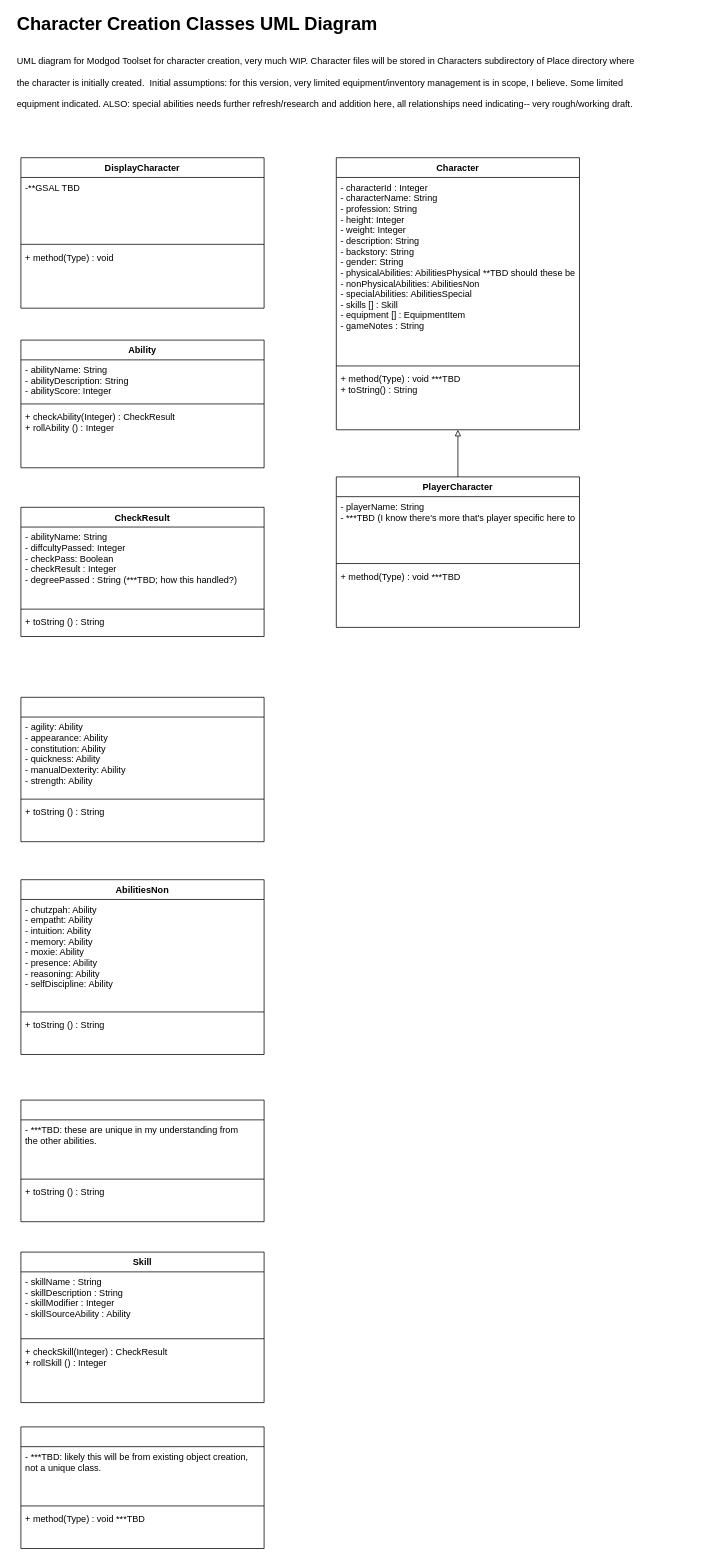
The diagram is 710 pixels wide and 1563 high, and some of its shapes have lost their labels. Here are the shapes that lost their labels. From the top down, the box of each, then its label:
(20, 697, 264, 842): AbilitiesPhysical
(20, 1099, 264, 1222): AbilitiesSpecial
(20, 1426, 264, 1548): EquipmentItem
